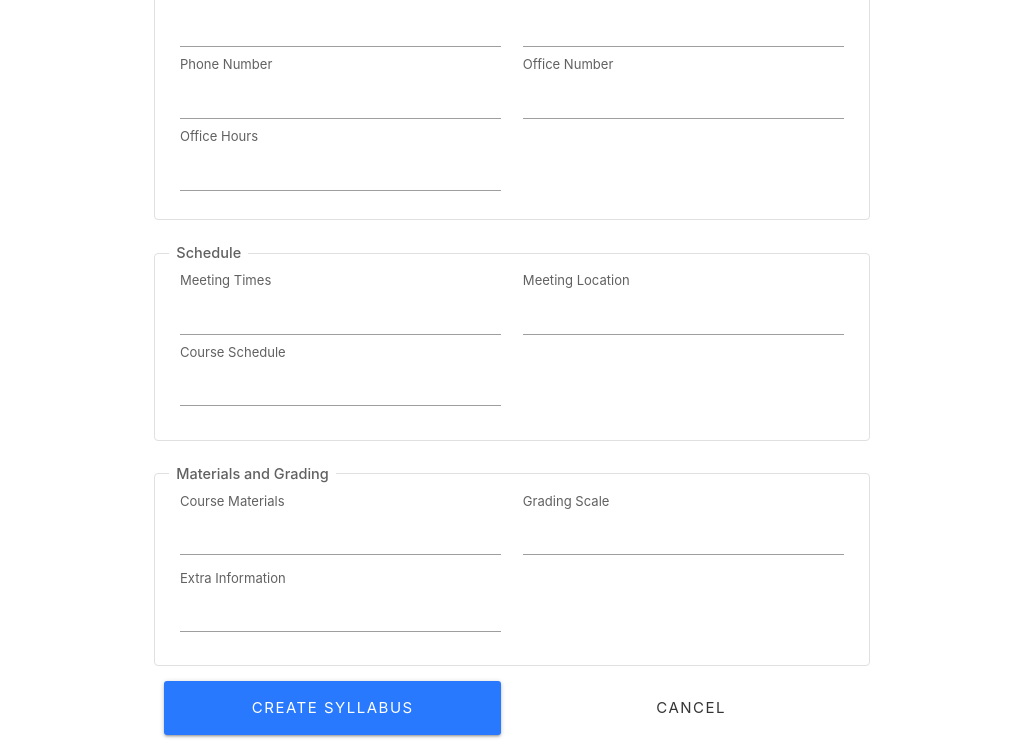
Test case: SyllabusForm › shows server field errors
The image size is (1024, 751).
(page scrolled)
Click the button "Create syllabus" at (333, 708), box [164,681,501,735]
(page scrolled)
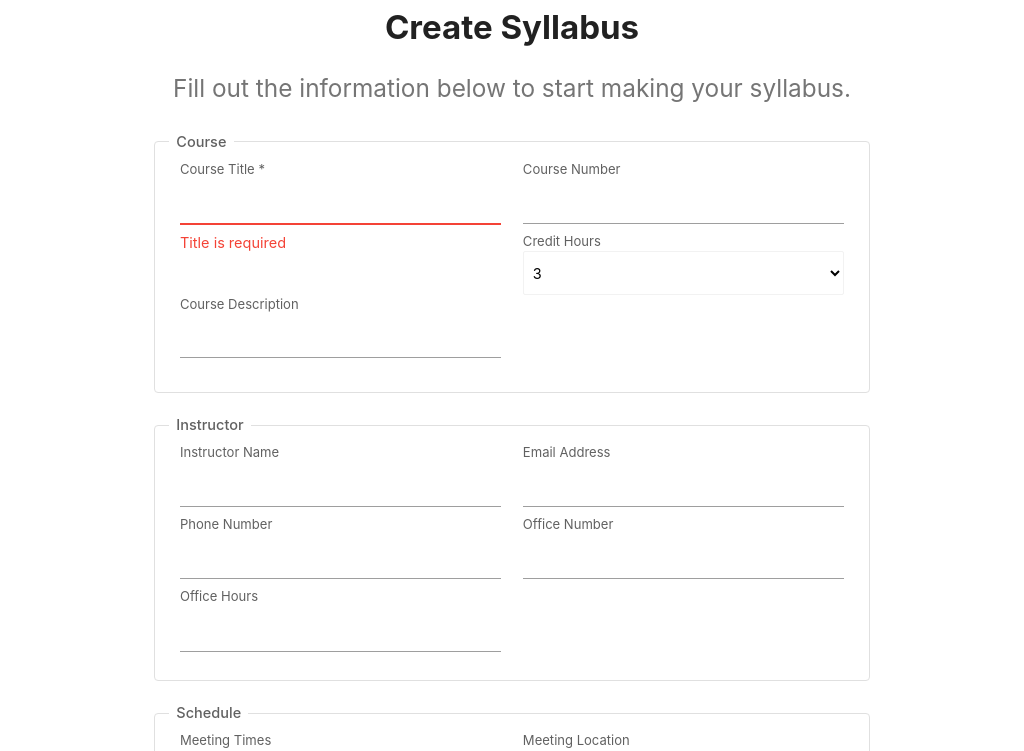
Expected: the text "Title is required" is shown, [180,234,286,251]
